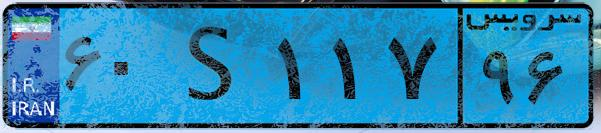0: (110, 28, 158, 98)
1: (270, 28, 330, 110), (330, 28, 385, 110)
6: (57, 26, 110, 100), (525, 38, 570, 115)
7: (385, 28, 445, 110)
9: (475, 38, 525, 113)
S: (158, 12, 270, 120)
